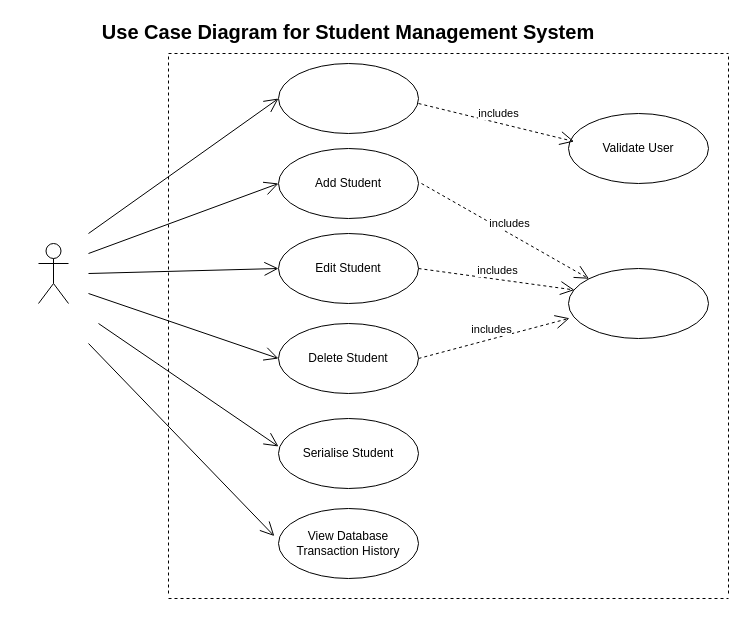
Image size: 747x617. Some labels were removed from this diagram. Here are the shapes that lost their labels. From the top down, the box of each, then its label:
(278, 62, 418, 134): Login
(38, 242, 68, 304): Staff Member
(568, 268, 708, 338): View All Students
